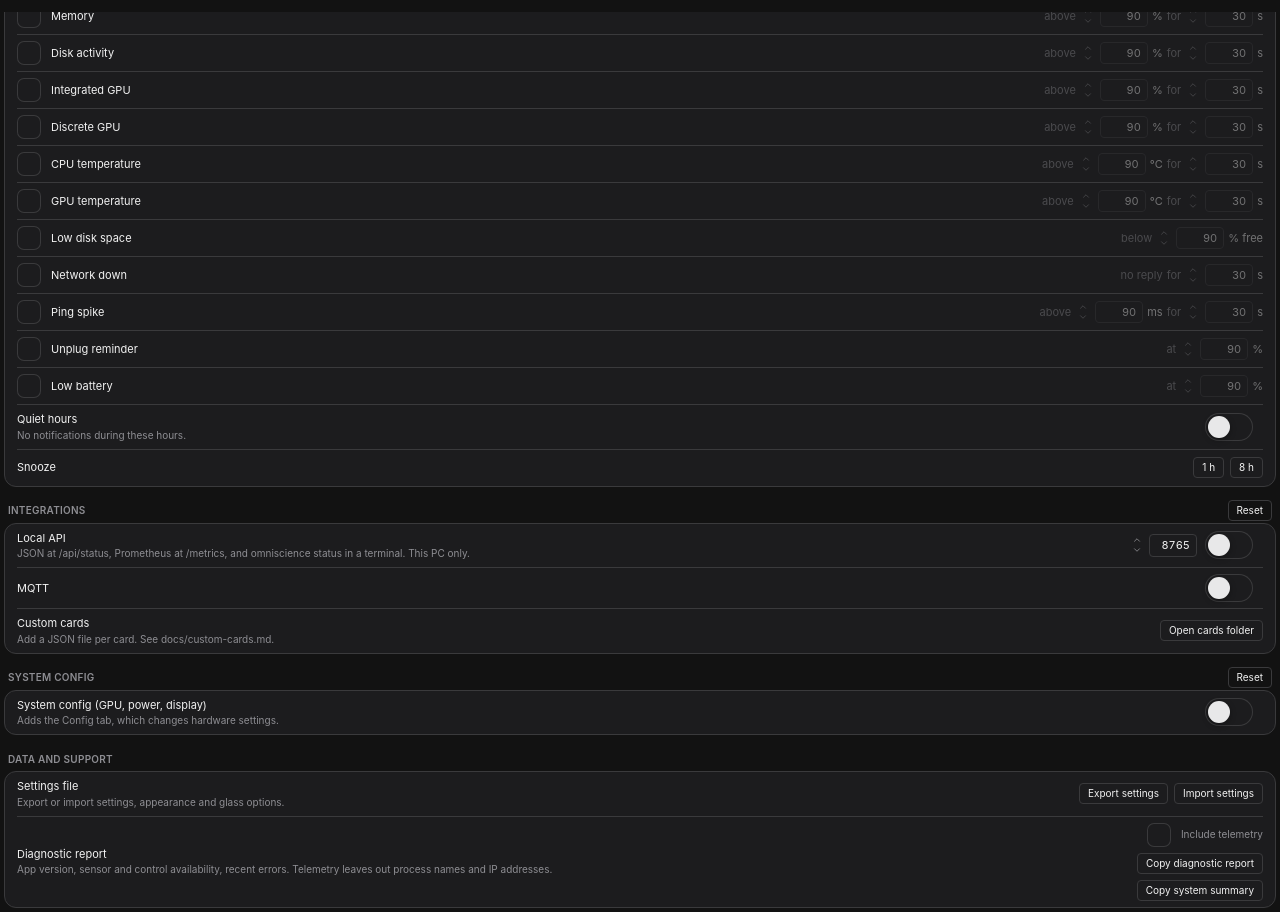
Test: SettingsView › reports a clipboard failure
The width and height of the screenshot is (1280, 912).
(page scrolled)
Click the button "Copy diagnostic report" at (1200, 863), box [1137, 852, 1263, 874]
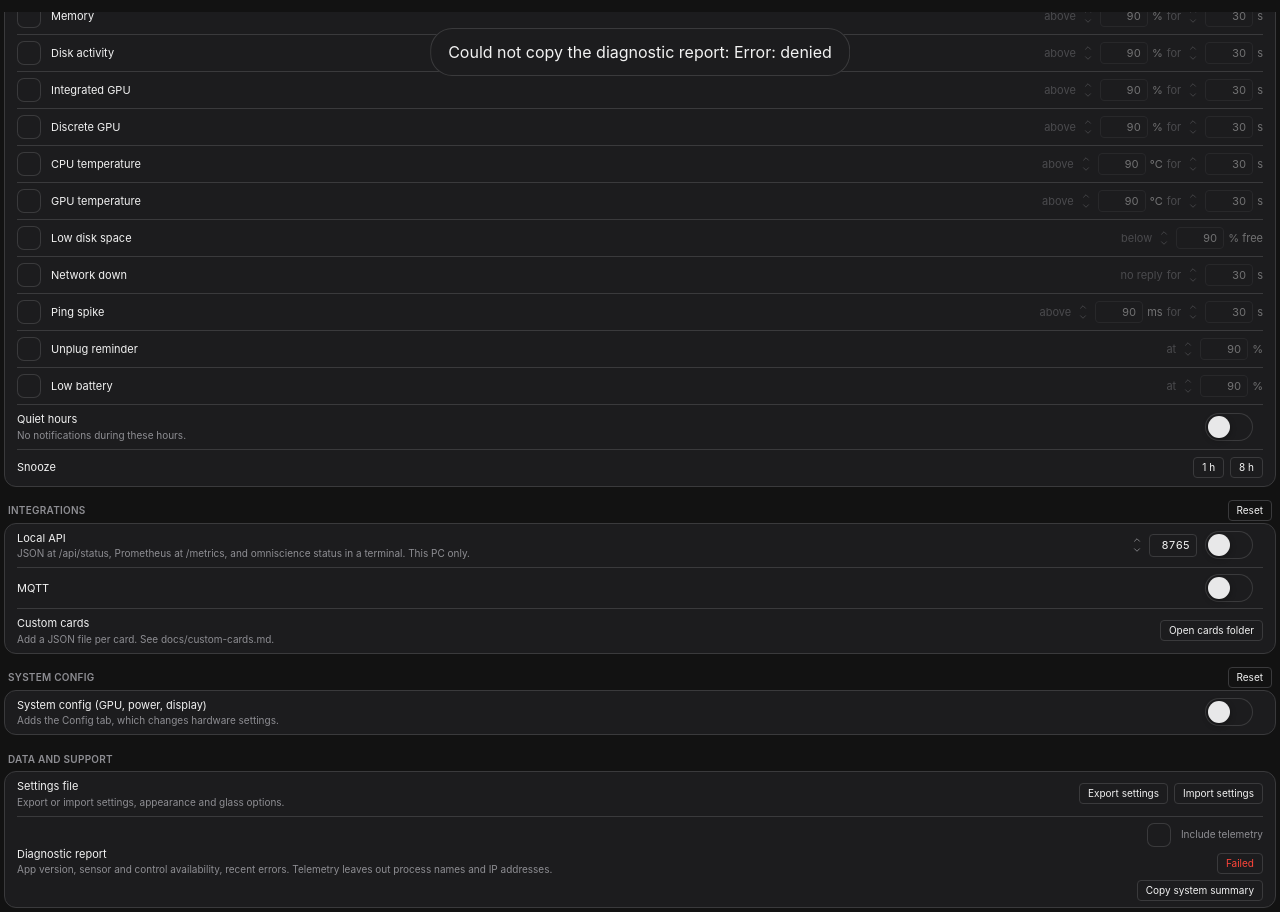
Expected: the text "Could not copy the diagnostic report: Error: denied" is shown, [448, 40, 832, 64]
